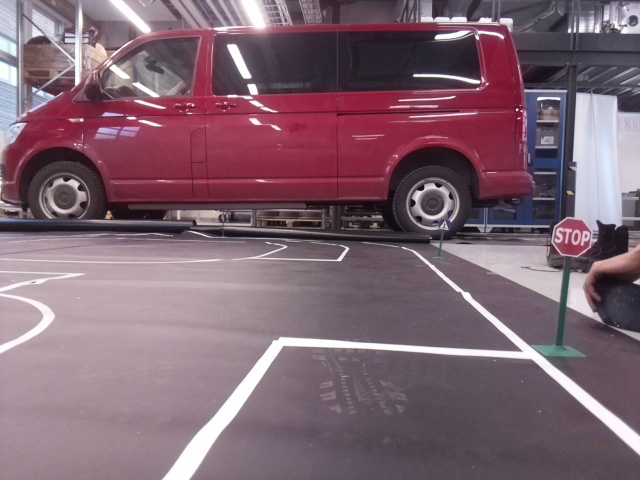Stop: (551, 213, 590, 258)
